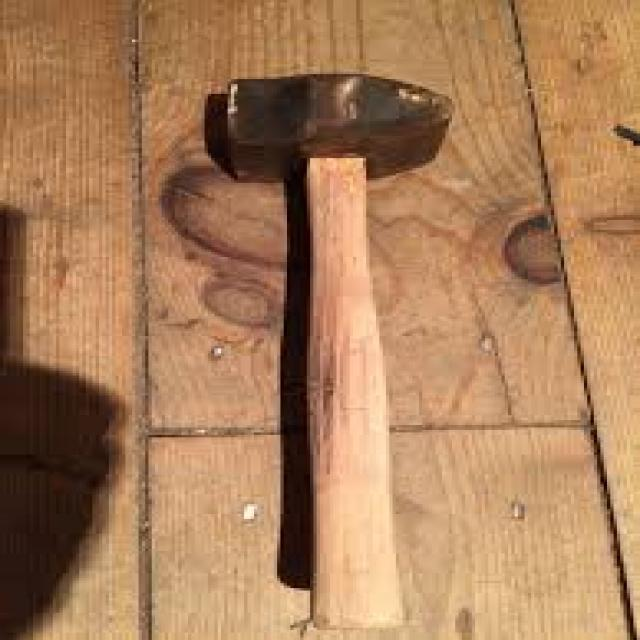hammer: (200, 67, 470, 636)
